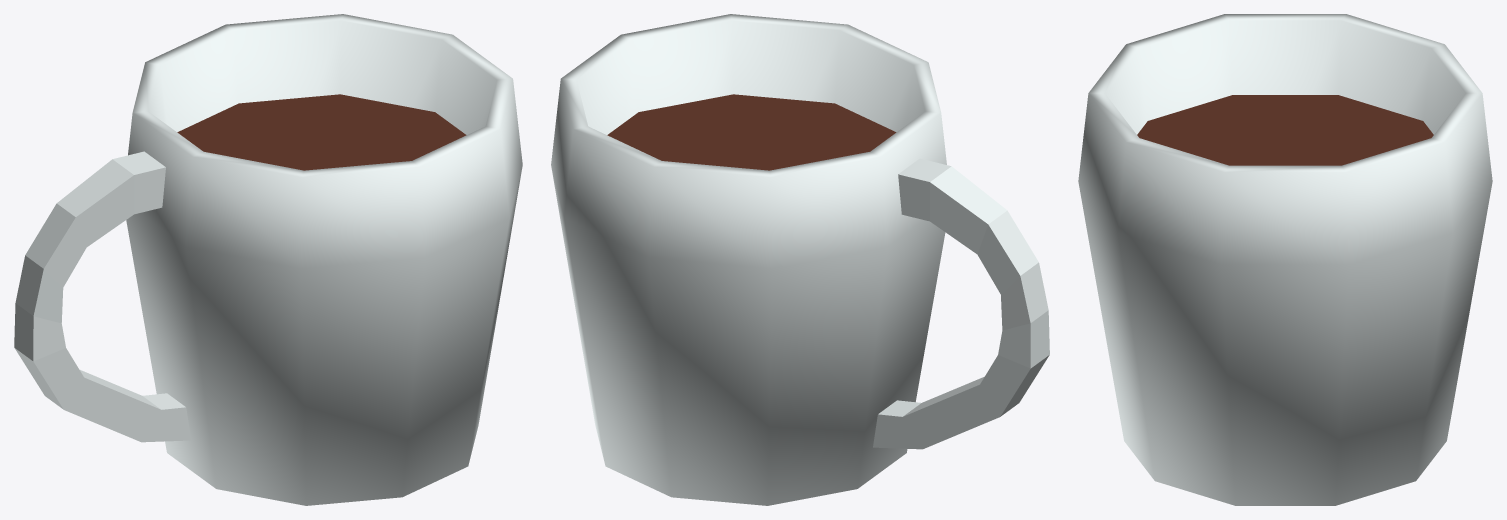
Rendered from CUP_OF_COFFE.fbx.
3 views of the same model, side by side, from view 1: azimuth 30°, elevation 25°; view 2: azimuth 150°, elevation 25°; view 3: azimuth 270°, elevation 25° (orthographic).
Visible parts, largest first — view 1: cup of coffe.003; view 2: cup of coffe.003; view 3: cup of coffe.003.
Boxes of the visible parts, <box> form: cup of coffe.003: <box>14,14,522,505</box>; cup of coffe.003: <box>551,14,1049,505</box>; cup of coffe.003: <box>1078,14,1492,505</box>.
Bounding box in the file's own units: 0.1523 × 0.108 × 0.1166.
